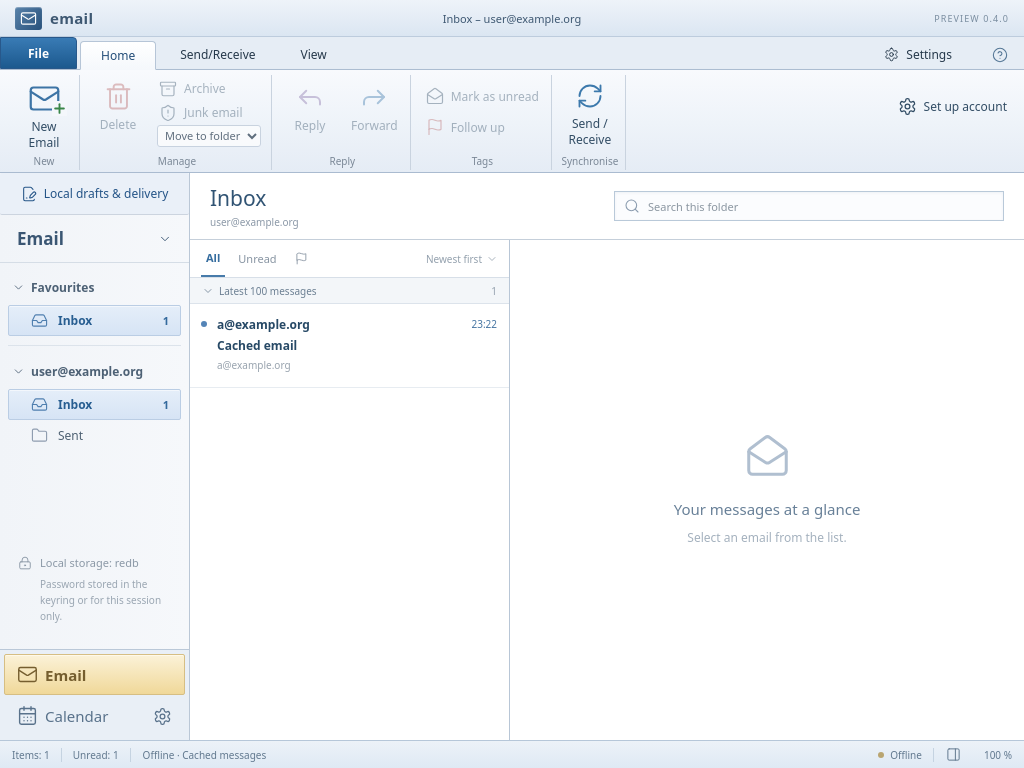
Scenario: attachments › keeps attachments and text when a picker is cancelled or import fails
This screenshot has width=1024, height=768.
Expected: the text "Cached email" is shown, 217,337 -> 297,354
Click the button "Local drafts & delivery".
click(94, 194)  # box 0,173 -> 189,215
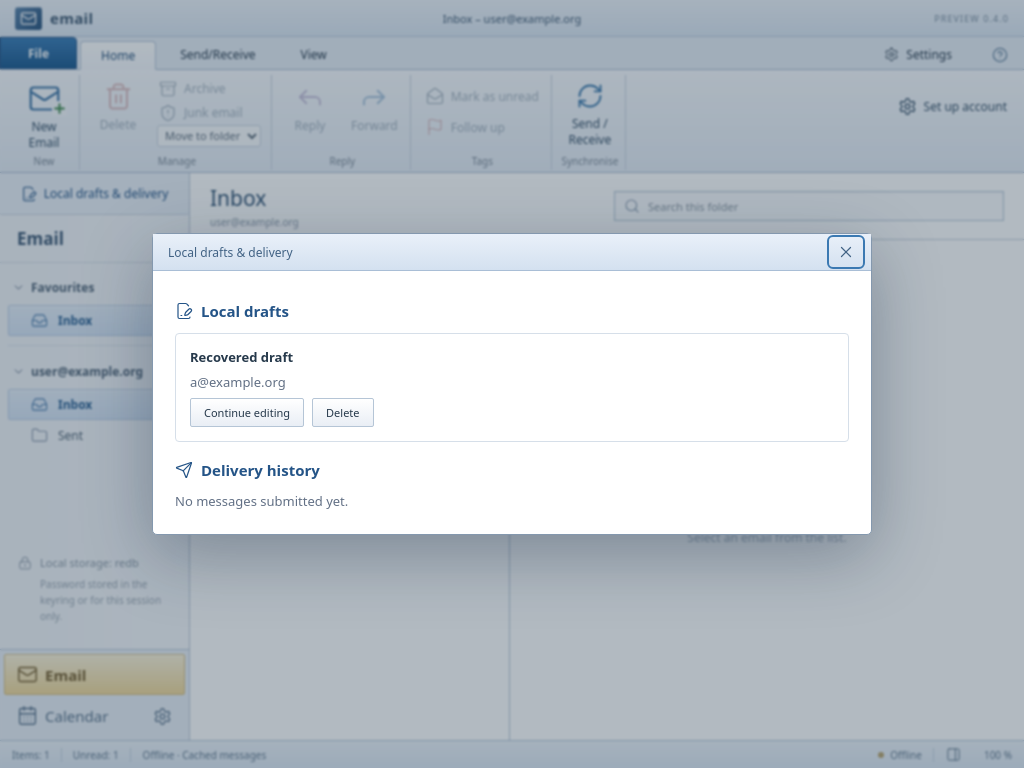
Now the text "Recovered draft" is shown, box 190,348 -> 293,366
Click the button "Continue editing".
click(247, 412)  # box 190,398 -> 304,427
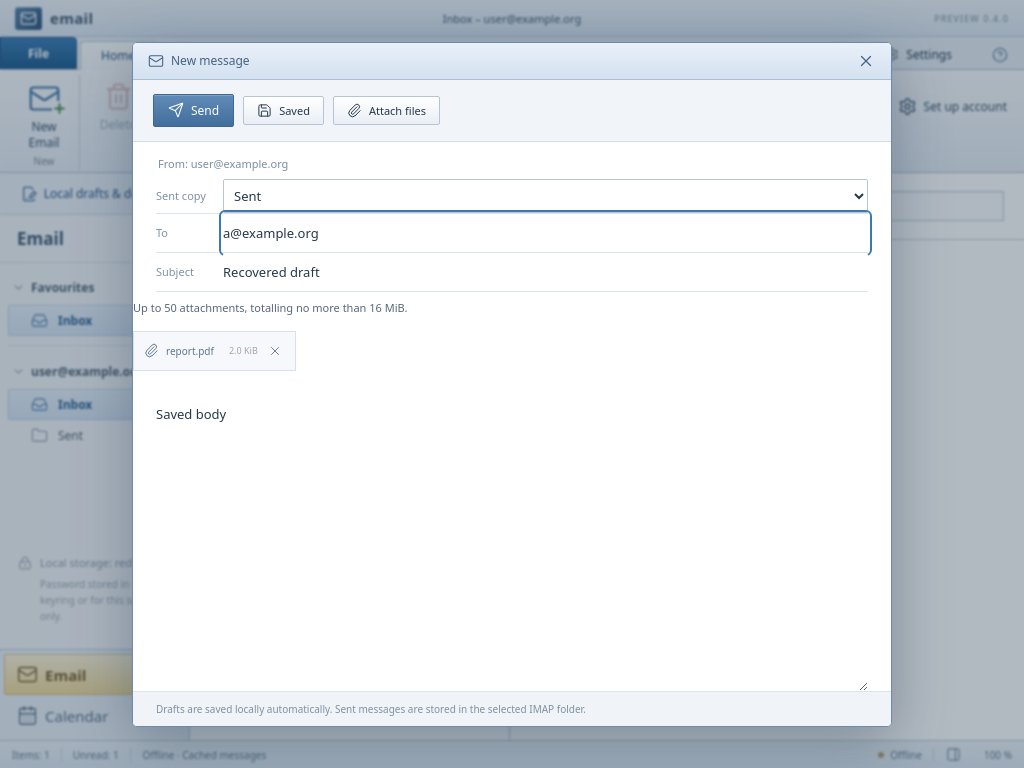
Click the button "Attach files".
click(386, 110)  # box 333,96 -> 440,124
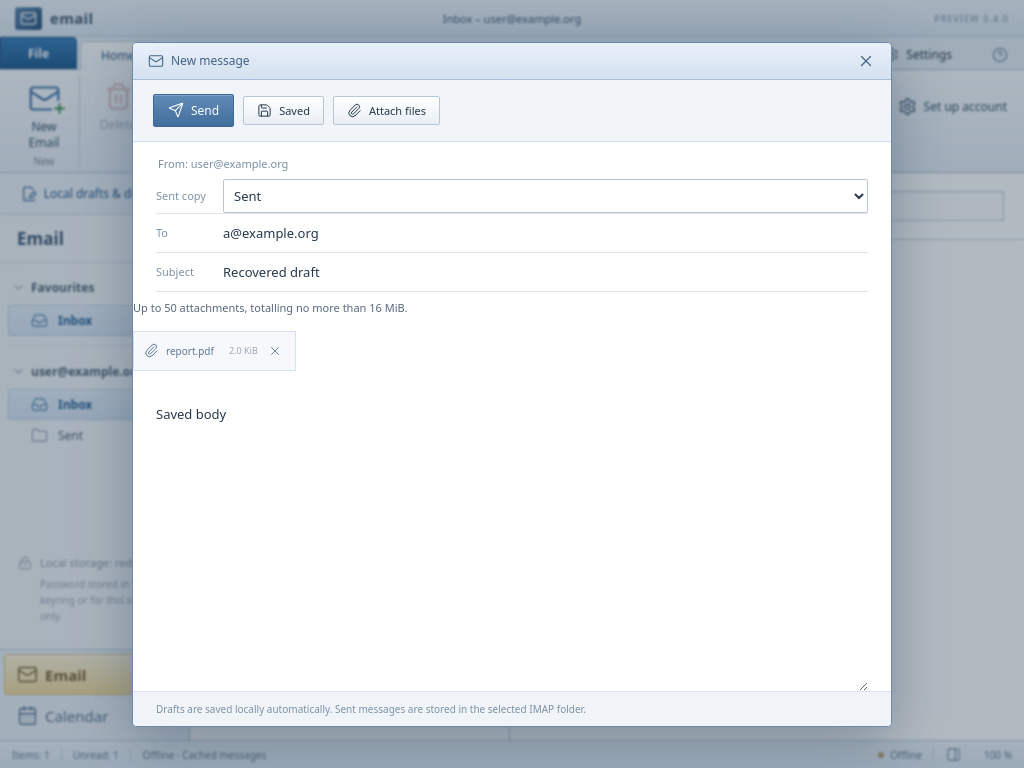
Now the button "Attach files" is enabled
Now the text "report.pdf" is shown, box 166,344 -> 214,358
Click the button "Attach files".
click(386, 110)  # box 333,96 -> 440,124
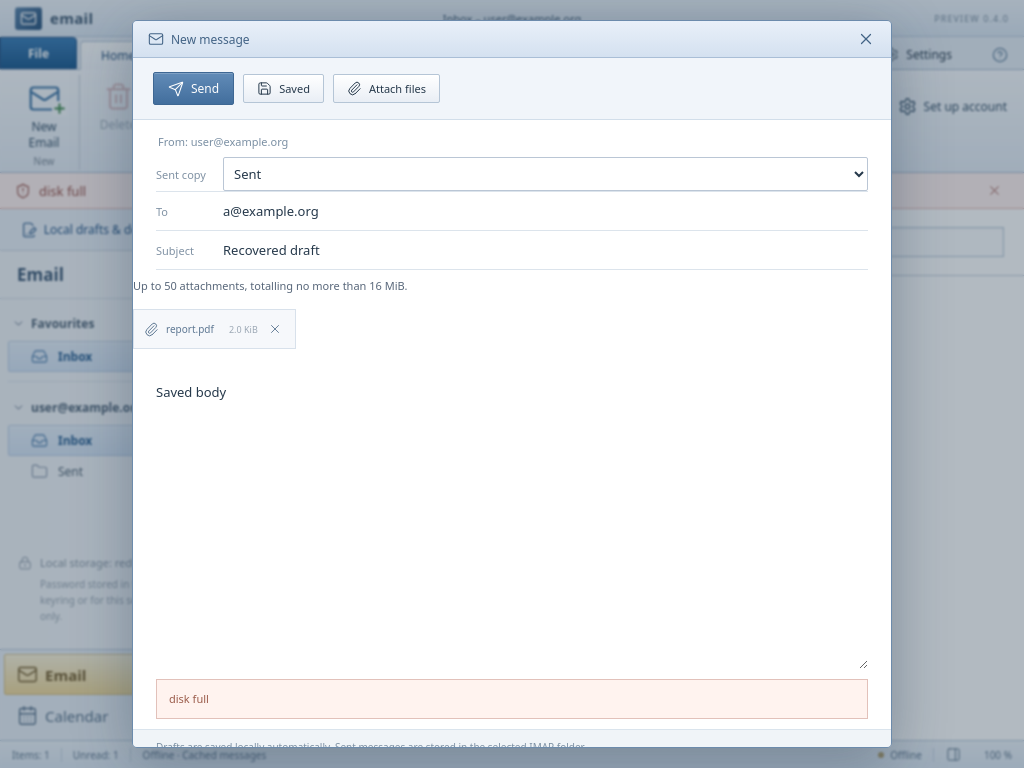
Now the text "report.pdf" is shown, box 166,322 -> 214,336
Now the text box named "Message body" holds "Saved body", box 156,369 -> 868,669
Now the text "disk full" is shown, box 39,182 -> 86,200
